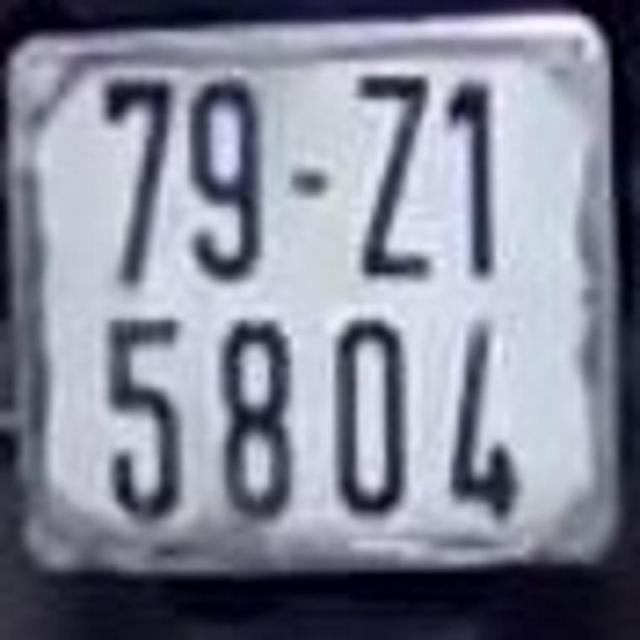0: (330, 316, 410, 511)
1: (446, 73, 501, 280)
4: (449, 316, 526, 516)
5: (102, 315, 184, 520)
7: (95, 71, 173, 284)
8: (212, 312, 296, 514)
9: (186, 72, 264, 277)
Z: (352, 70, 434, 276)
